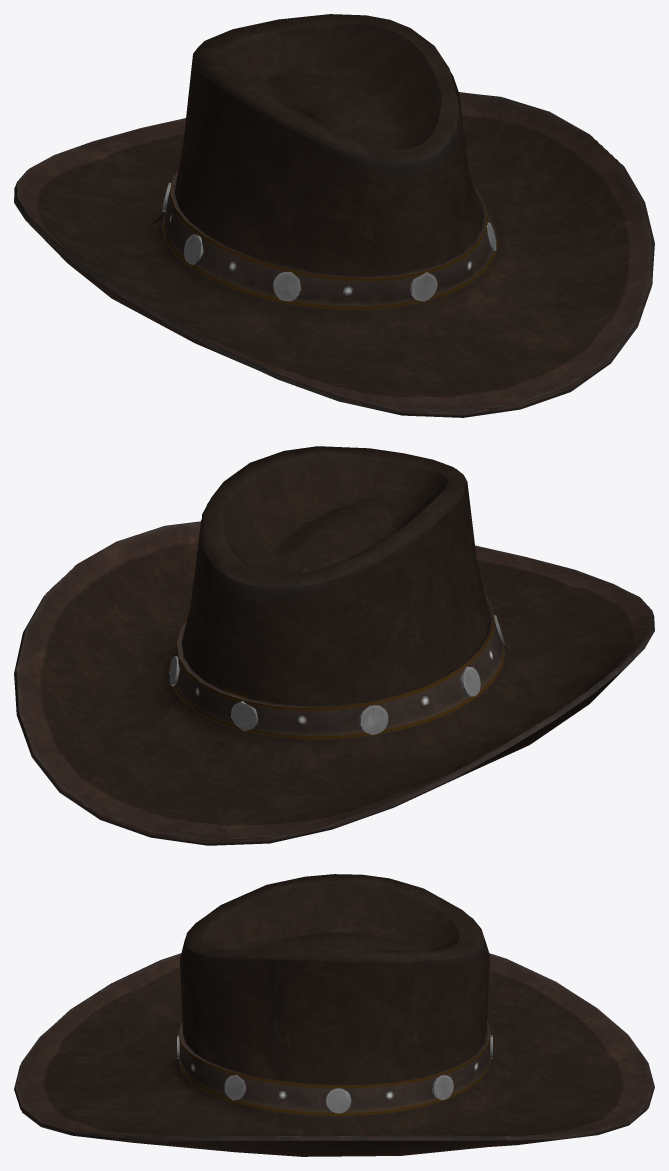
The model's file is hat_brown_cowboy.glb.
3 renders of one model, top to bottom at view 1: azimuth 30°, elevation 25°; view 2: azimuth 150°, elevation 25°; view 3: azimuth 270°, elevation 25°, orthographic. The views are drawn at different scales.
Visible parts, largest first — view 1: Object_2; view 2: Object_2; view 3: Object_2.
Part boxes in pixels (left/top/right/bottom): Object_2: left=14, top=14, right=654, bottom=417; Object_2: left=14, top=446, right=654, bottom=845; Object_2: left=14, top=874, right=654, bottom=1156.
Bounding box in the file's own units: 5.26 × 2.04 × 6.68.
Materials: 1 (1 with a texture image).
